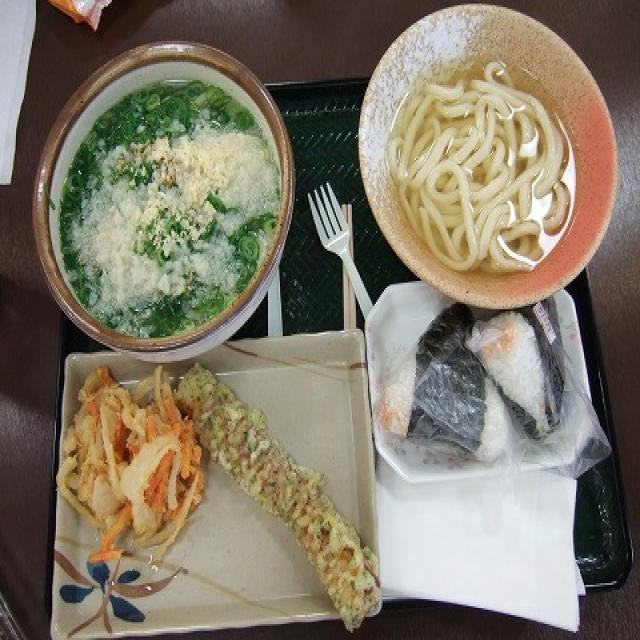面条主食: (362, 22, 610, 310)
